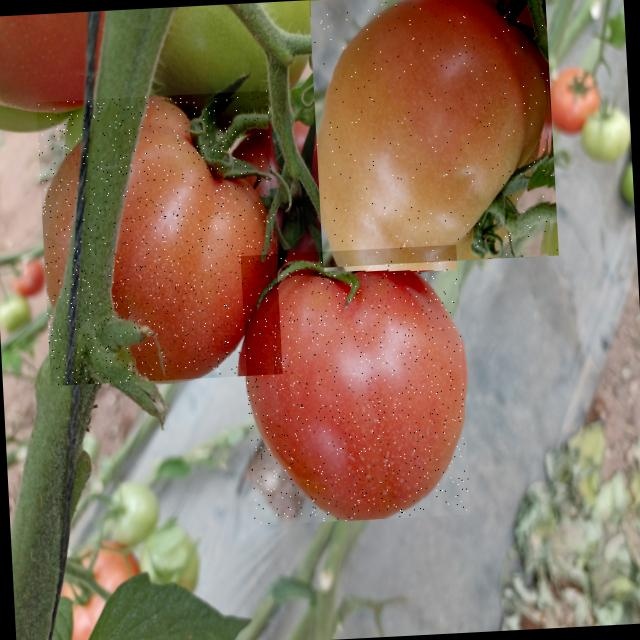Ripe Tomato: (36, 90, 283, 387), (309, 0, 559, 268), (240, 244, 470, 526)
